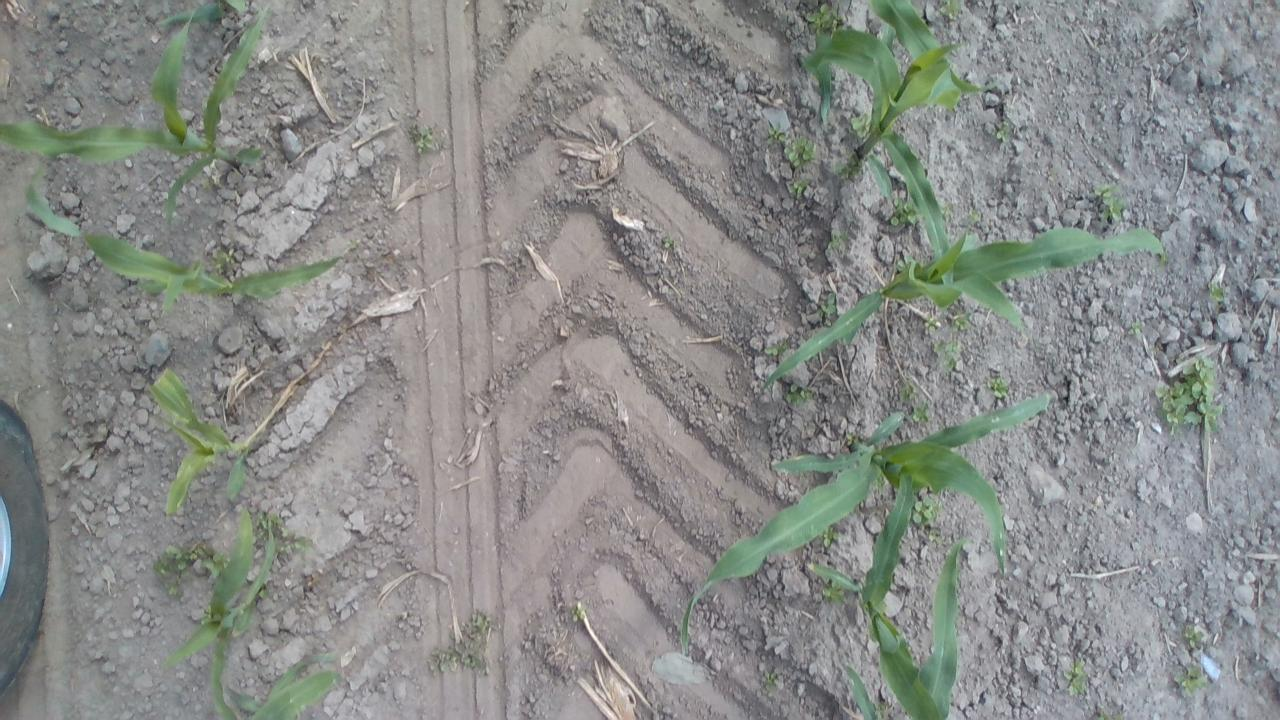Maize: (676, 386, 1061, 660), (759, 224, 1170, 390), (0, 5, 281, 236), (799, 0, 976, 296), (22, 161, 344, 317), (158, 501, 281, 720), (845, 534, 976, 720), (144, 364, 252, 512), (210, 649, 354, 720)
Weeds: (1152, 353, 1222, 437), (426, 610, 492, 679), (151, 537, 218, 596), (249, 512, 307, 556), (1092, 181, 1132, 224), (208, 241, 241, 287), (1060, 653, 1095, 696), (408, 118, 445, 156), (1172, 660, 1210, 695), (804, 5, 844, 38), (908, 492, 942, 526), (935, 338, 964, 376), (784, 135, 818, 166), (886, 197, 920, 226), (783, 385, 818, 413), (790, 176, 820, 206), (935, 0, 969, 25), (847, 106, 874, 137), (819, 580, 851, 606), (764, 117, 790, 146), (1206, 278, 1232, 306), (902, 397, 931, 422), (1182, 620, 1206, 650), (986, 375, 1012, 402), (762, 336, 788, 363), (568, 601, 592, 630), (758, 669, 782, 694), (993, 120, 1016, 146), (819, 525, 841, 552), (952, 310, 974, 336), (896, 378, 918, 404), (872, 469, 894, 494), (818, 290, 836, 320), (1094, 705, 1130, 720), (1124, 314, 1146, 338), (836, 158, 863, 176), (828, 227, 848, 251), (657, 234, 679, 255), (924, 311, 942, 335), (941, 203, 956, 225), (964, 207, 981, 226), (842, 428, 856, 446)
